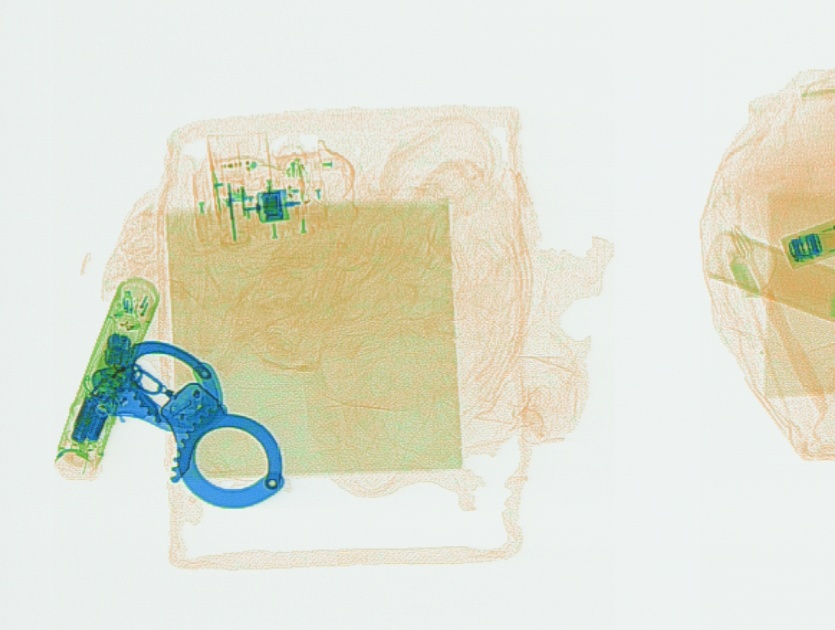firecrackers: (702, 229, 832, 324)
handcuffs: (89, 330, 284, 508)
